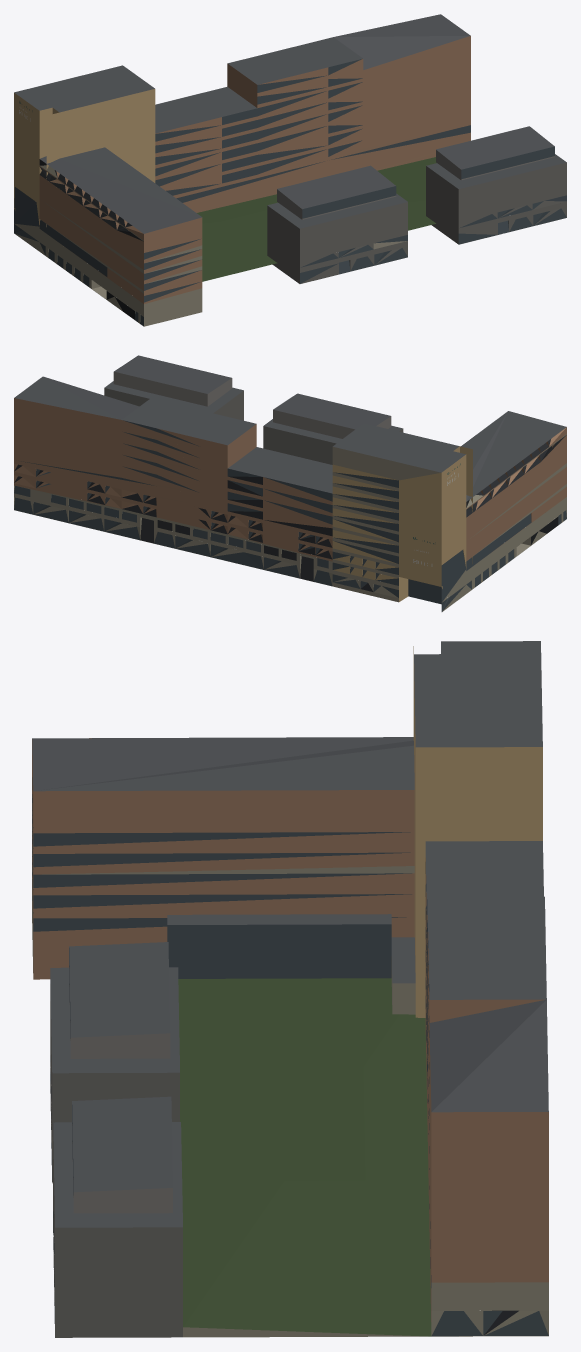
File: andreas-ensemble.lod2.glb
3 renders of one model, top to bottom at view 1: azimuth 30°, elevation 25°; view 2: azimuth 150°, elevation 25°; view 3: azimuth 270°, elevation 25°, orthographic. The views are drawn at different scales.
Visible parts, largest first — view 1: lod2; view 2: lod2; view 3: lod2.
Part boxes in pixels (left/top/right/bottom): lod2: left=14, top=14, right=566, bottom=326; lod2: left=14, top=355, right=566, bottom=611; lod2: left=32, top=641, right=548, bottom=1337.
Size of the model in its own units: 131 by 41.01 by 68.65.
